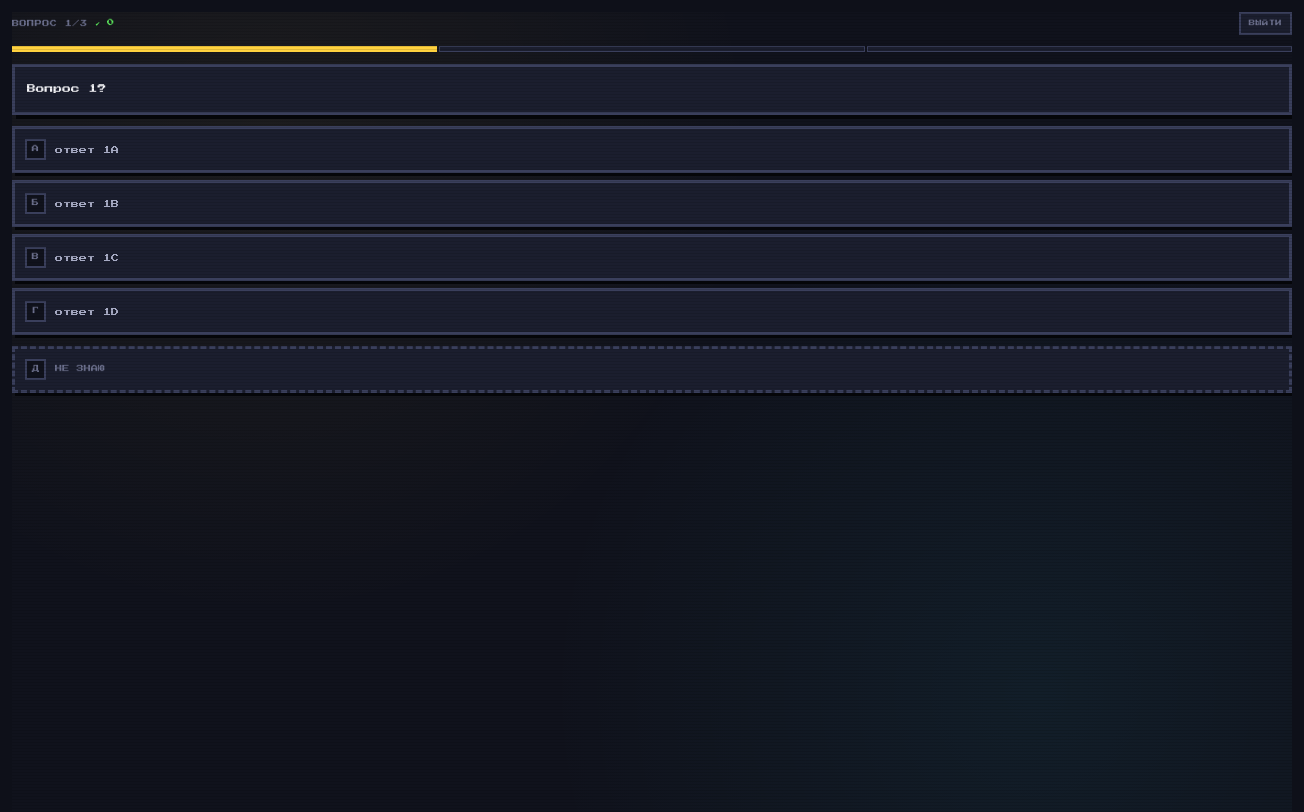
Test: QuizRunnerComponent › quitting › asks for confirmation on the first tap
This screenshot has width=1304, height=812.
Click the button "ВЫЙТИ" at x=1265, y=23, box 1239,12 -> 1292,35
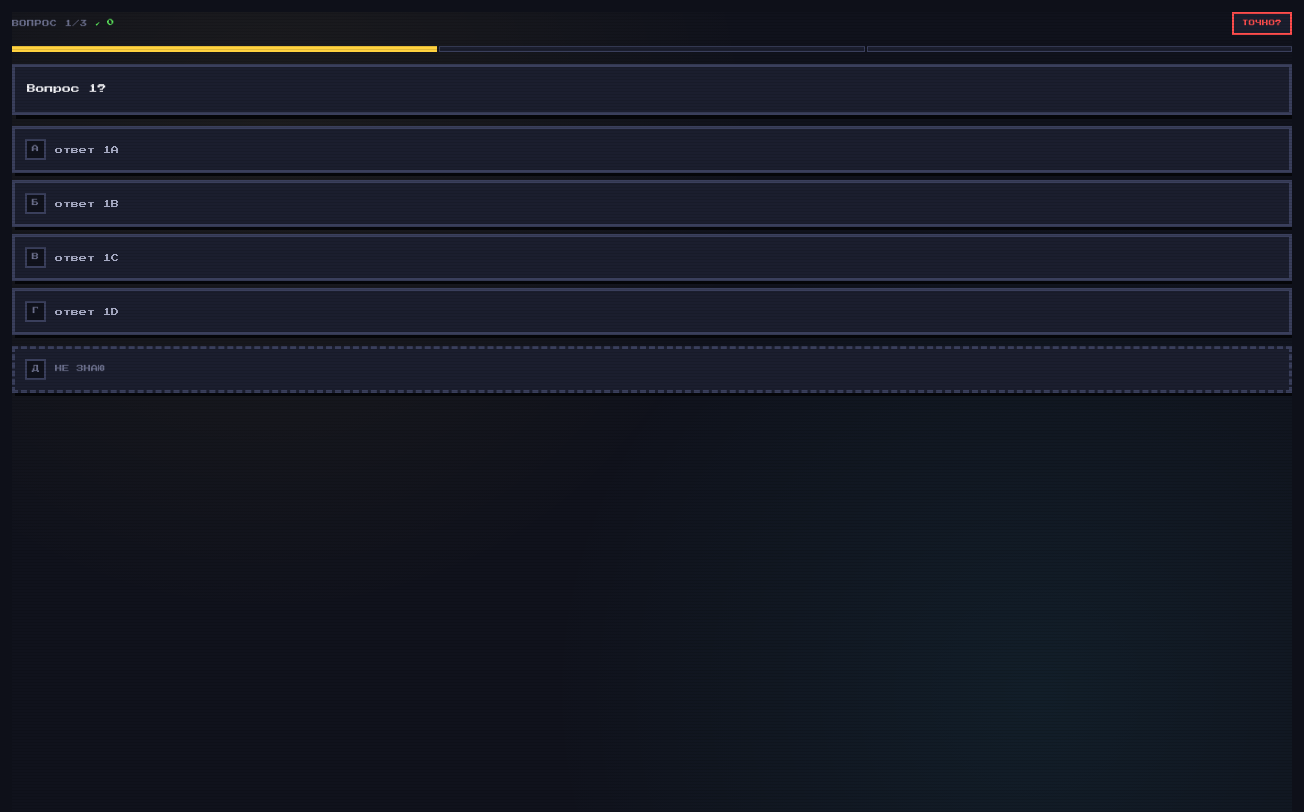
Now the button "ТОЧНО?" is shown, box 1232,12 -> 1292,35
